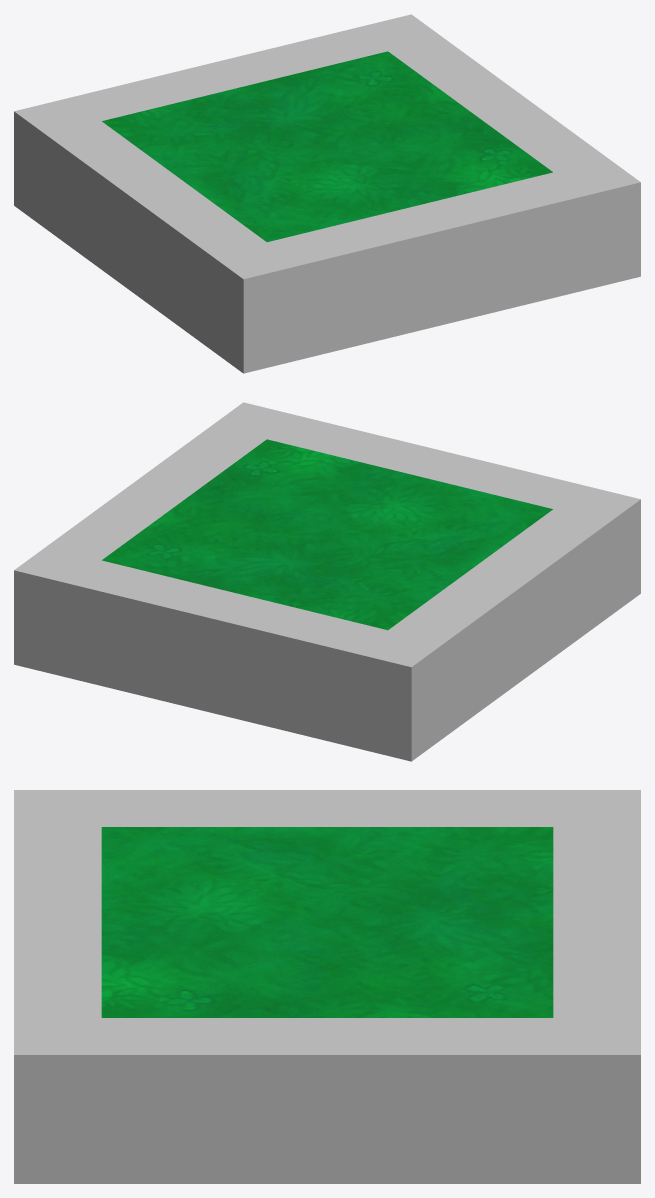
File: Plant01_b01.FBX
The picture shows the model from 3 angles, top to bottom: view 1: azimuth 30°, elevation 25°; view 2: azimuth 150°, elevation 25°; view 3: azimuth 270°, elevation 25°; orthographic projection. The views are drawn at different scales.
Parts seen in each view (by area): view 1: Plant01_b01; view 2: Plant01_b01; view 3: Plant01_b01.
Part boxes in pixels (x1,y1,x2,y2): Plant01_b01: [14, 14, 640, 373]; Plant01_b01: [14, 402, 640, 761]; Plant01_b01: [14, 790, 640, 1183].
Bounding box in the file's own units: 208 × 47.09 × 208.
